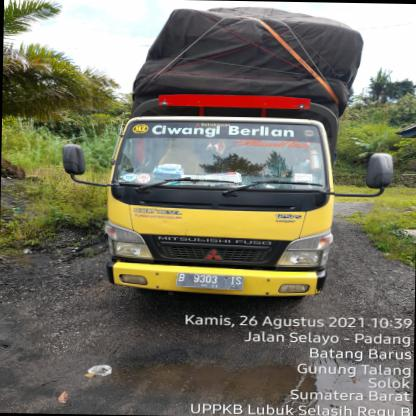truck: (105, 113, 338, 309)
